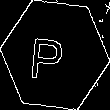P_N: (35, 28, 75, 82)
